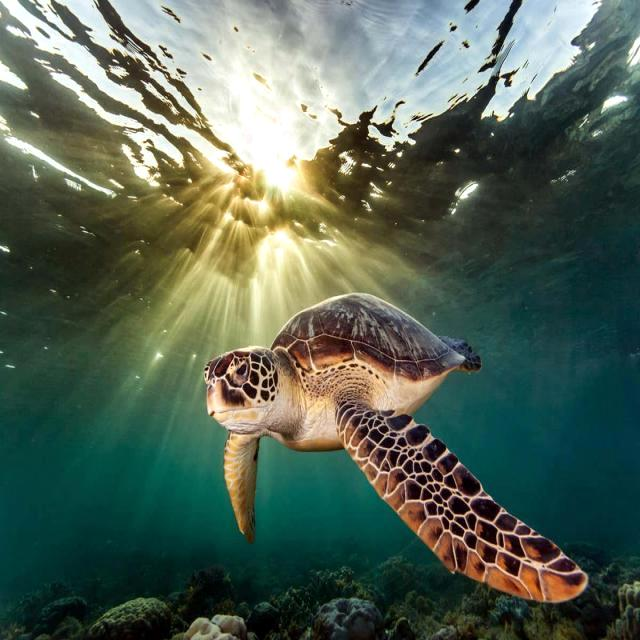Sea turtle: (204, 292, 589, 597)
